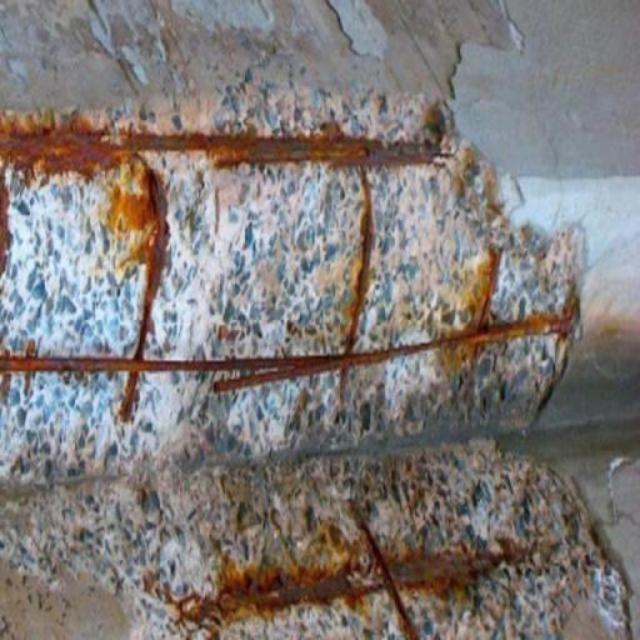D0w0: (0, 0, 629, 585), (6, 0, 593, 441), (18, 450, 621, 639)
